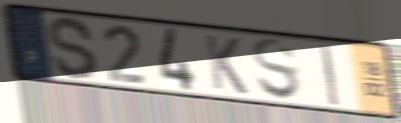2: (100, 22, 150, 87)
4: (158, 25, 198, 94)
I: (318, 42, 341, 109)
K: (202, 32, 251, 97)
S: (45, 14, 101, 82), (250, 37, 304, 104)
